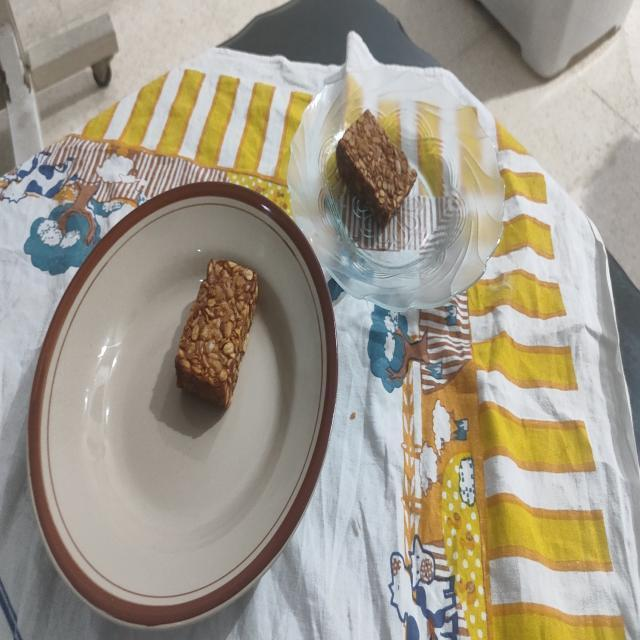tempe_goreng: (175, 259, 258, 407), (336, 110, 416, 228)
